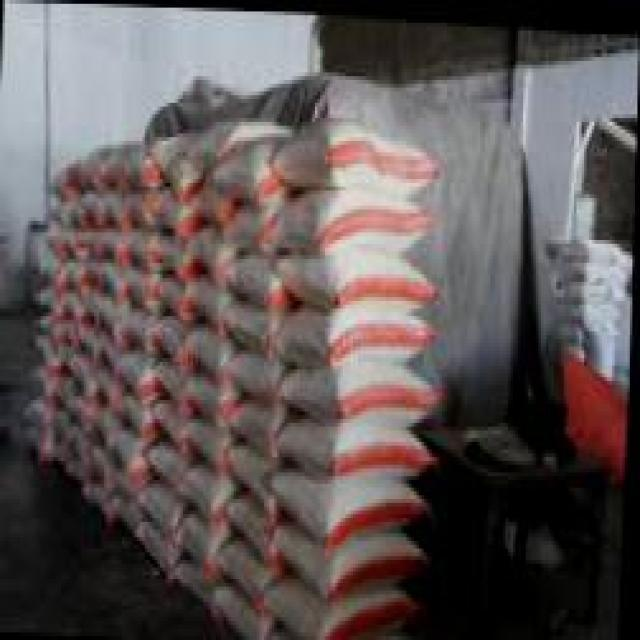gunny_bag: (278, 517, 434, 604), (273, 464, 436, 546), (277, 299, 451, 368), (281, 109, 441, 181), (287, 246, 449, 315), (273, 186, 429, 255), (283, 360, 445, 426), (273, 573, 419, 640), (281, 417, 443, 475), (217, 131, 287, 211), (223, 535, 282, 616), (231, 293, 294, 362), (233, 494, 292, 562), (100, 134, 165, 195), (189, 219, 244, 286), (180, 458, 241, 517), (227, 248, 285, 310), (188, 409, 241, 473), (237, 394, 293, 453), (221, 582, 277, 640), (184, 512, 234, 575), (153, 182, 204, 241), (186, 322, 240, 377), (139, 481, 193, 536), (120, 349, 166, 404), (123, 223, 171, 275), (110, 424, 153, 479), (156, 400, 205, 447), (196, 372, 242, 419), (126, 302, 166, 353), (153, 437, 192, 489), (96, 254, 133, 307), (157, 273, 200, 317), (98, 293, 138, 337), (72, 346, 103, 400), (63, 425, 98, 469)
